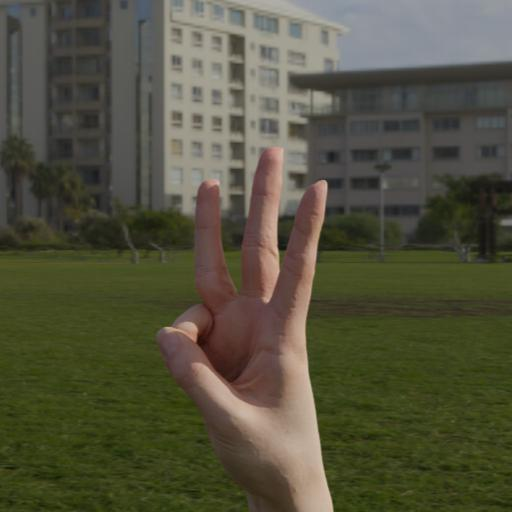W: (154, 144, 329, 490)
